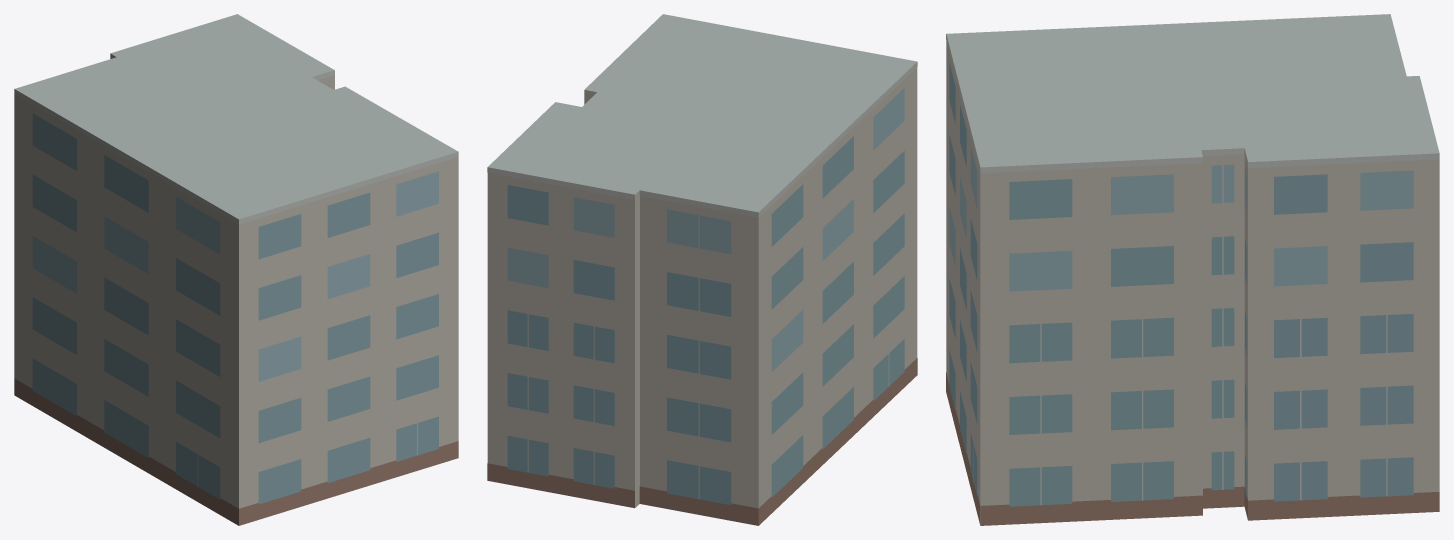
Rendered from survey-upis-32885129.glb.
3 views of the same model, side by side, from view 1: azimuth 30°, elevation 25°; view 2: azimuth 150°, elevation 25°; view 3: azimuth 270°, elevation 25° (orthographic). The views are drawn at different scales.
Visible parts, largest first — view 1: survey-upis-32885129.tmp; view 2: survey-upis-32885129.tmp; view 3: survey-upis-32885129.tmp.
Boxes of the visible parts, x1,y1,x2,y2 form: survey-upis-32885129.tmp: (14,14,458,525); survey-upis-32885129.tmp: (487,14,917,525); survey-upis-32885129.tmp: (946,14,1439,525).
Size of the model in its own units: 13.23 by 14.4 by 17.97.
